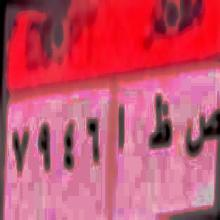4: (58, 124, 79, 186)
6: (86, 108, 104, 177)
7: (10, 118, 30, 183)
9: (38, 120, 54, 183)
Thaa: (147, 94, 174, 160)
alif: (115, 96, 132, 160)
saad: (180, 104, 220, 155)
